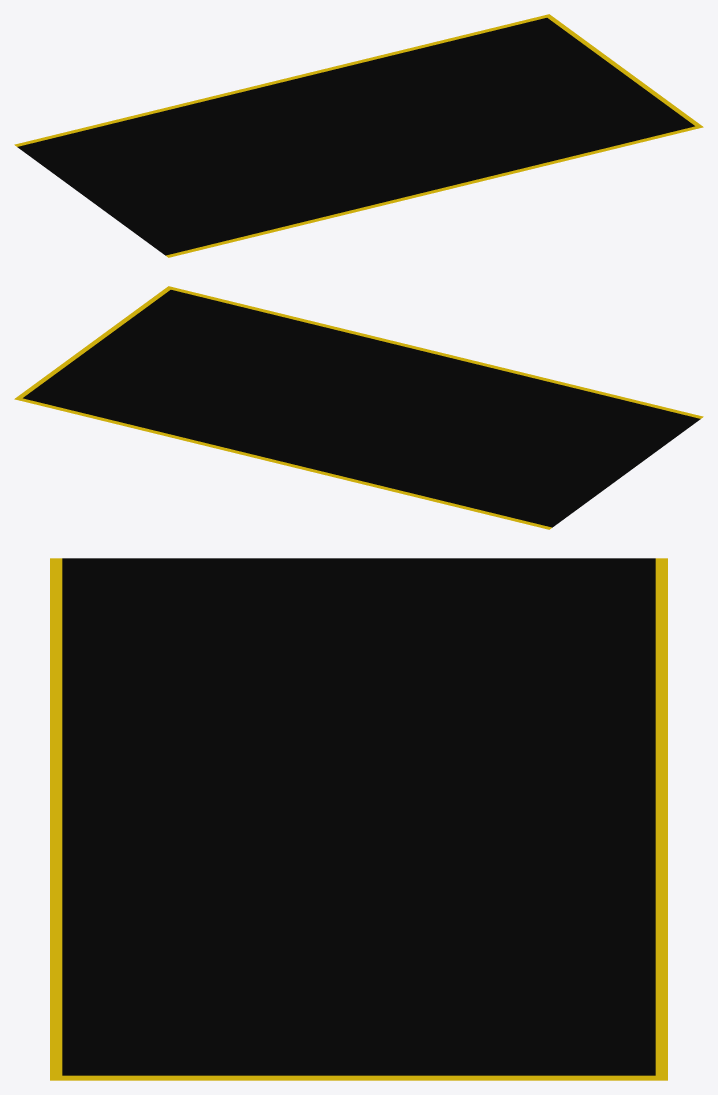
The model's file is parking_lot_lot.fbx.
3 renders of one model, top to bottom at view 1: azimuth 30°, elevation 25°; view 2: azimuth 150°, elevation 25°; view 3: azimuth 270°, elevation 25°, orthographic. The views are drawn at different scales.
Visible parts, largest first — view 1: Plane.001, Plane; view 2: Plane.001, Plane; view 3: Plane.001, Plane.
Part boxes in pixels (box(x1,y1,x2,y2)): Plane.001: box(17, 18, 694, 255); Plane: box(14, 14, 703, 257); Plane.001: box(23, 290, 700, 527); Plane: box(14, 286, 703, 529); Plane.001: box(62, 558, 655, 1075); Plane: box(50, 558, 667, 1080).
Bounding box in the file's own units: 500 × 8.15e-05 × 250.
